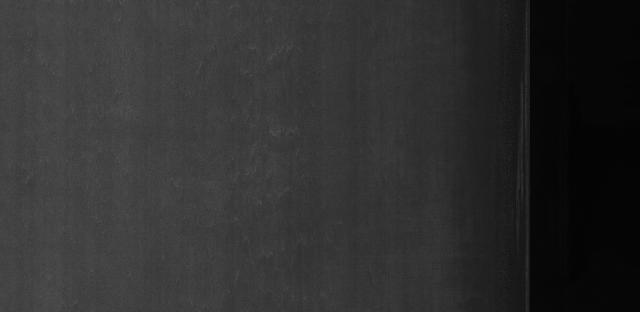silk_spot: (220, 40, 325, 237), (495, 83, 527, 203)
